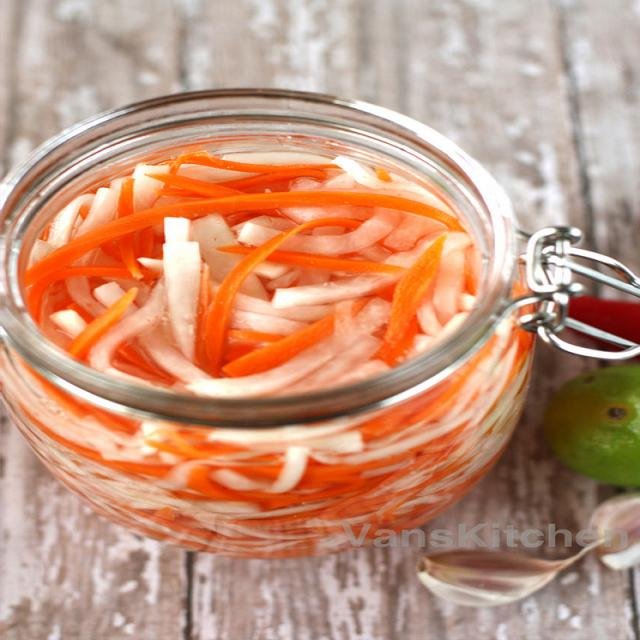do chua: (25, 151, 483, 394)
